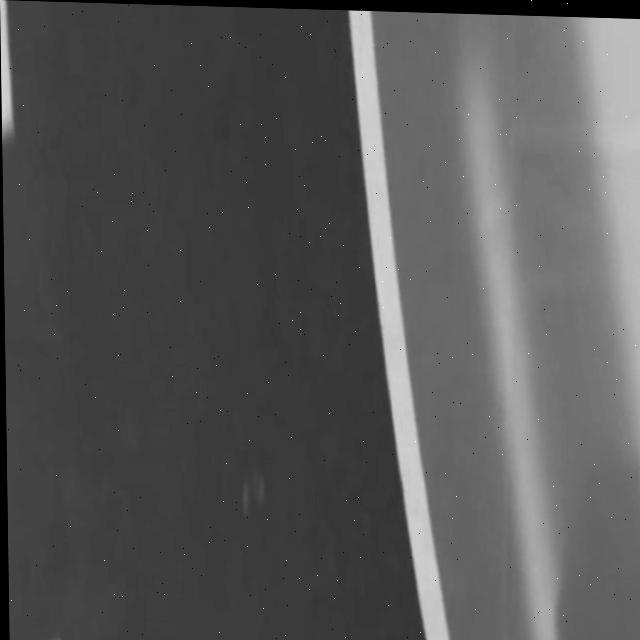center: (0, 0, 13, 143)
right: (348, 10, 449, 640)
